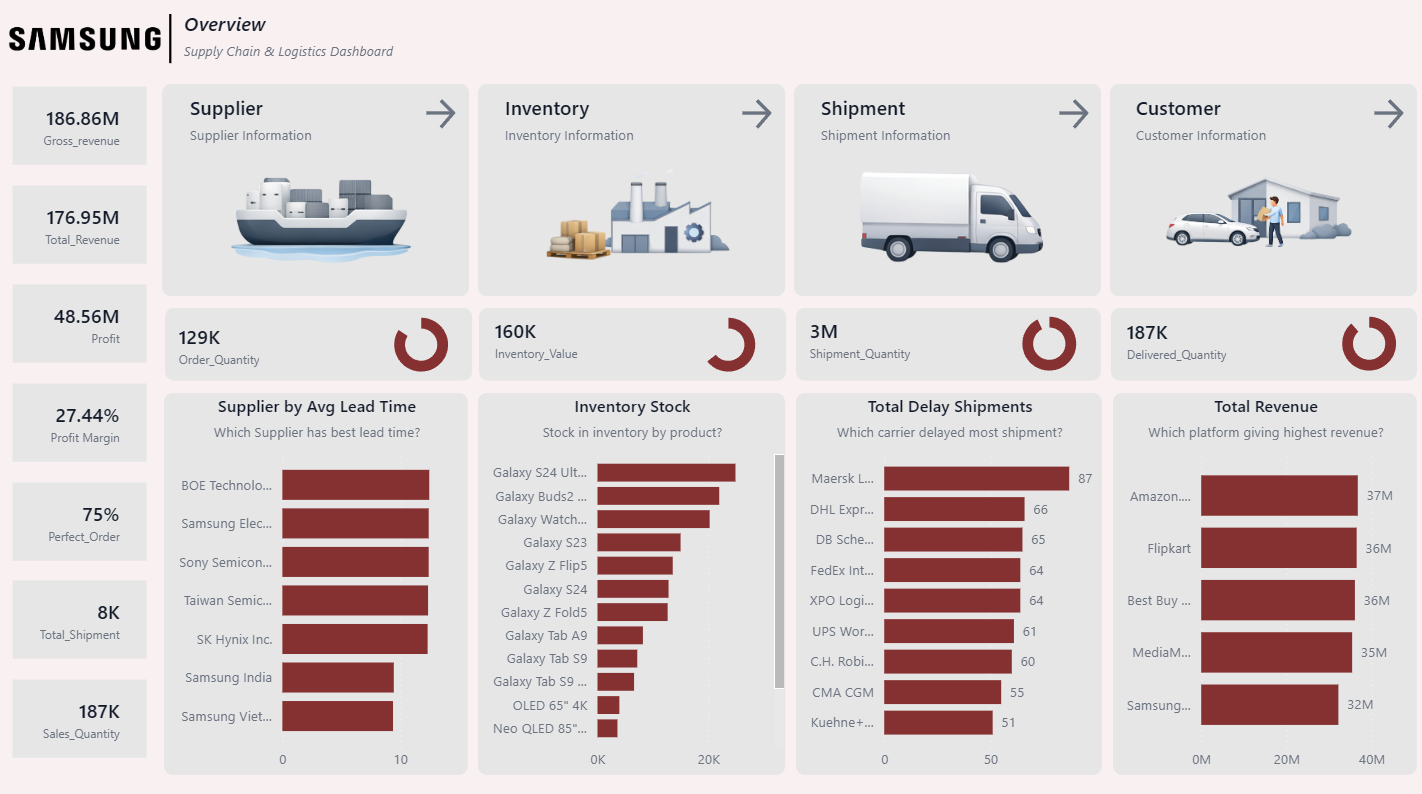

Layout of this report page (visuals, bound fields, positions):
{"tool":"powerbi","page":{"name":"Page 1","canvas":[1280,720],"ordinal":0},"visuals":[{"type":"shape","box":[148.1,81.6,275,190],"z":0},{"type":"shape","title":"Overview","box":[167.6,15.1,212.8,51.4],"z":1000,"group":"g2"},{"type":"shape","box":[430.7,81.6,275,190],"z":1000},{"type":"image","box":[0,19.5,150.7,42.6],"z":2000,"group":"g2"},{"type":"shape","box":[714.1,81.6,275,190],"z":2000},{"type":"cardVisual","fields":{"Data":["MeasuresTable.Total_Revenue"]},"box":[8.9,167.4,130,80],"z":3000},{"type":"shape","box":[135.7,18.6,39.9,44.3],"z":4000,"group":"g2"},{"type":"clusteredBarChart","title":"Supplier by Avg Lead Time","fields":{"Y":["MeasuresTable.Avg_Lead_Time"],"Category":["dim_supplier.supplier_name"]},"box":[149.9,358.1,272.2,342.3],"z":4000},{"type":"shape","box":[996.7,81.6,275,190],"z":5000},{"type":"cardVisual","fields":{"Data":["MeasuresTable.Profit"]},"box":[9.2,256,130,80],"z":6000},{"type":"clusteredBarChart","title":"Inventory Stock","fields":{"Y":["MeasuresTable.Inventory_Value"],"Category":["dim_product.product_name"]},"box":[430.9,358.1,274.9,342.3],"z":7000},{"type":"image","box":[191.2,126.9,188.6,133.7],"z":8000},{"type":"cardVisual","fields":{"Data":["MeasuresTable.Profit Margin %"]},"box":[9.2,344.5,130,80],"z":9000},{"type":"clusteredBarChart","title":"Total Delay Shipments","fields":{"Y":["MeasuresTable.Total_Delay"],"Category":["fact_shipment.carrier"]},"box":[715.6,358.1,274,342.3],"z":10000},{"type":"image","box":[473.8,126.9,188.6,133.7],"z":11000},{"type":"cardVisual","fields":{"Data":["MeasuresTable.Perfect_Order %"]},"box":[8.9,433,130,80],"z":12000},{"type":"clusteredBarChart","title":"Total Revenue","fields":{"Y":["MeasuresTable.Total_Revenue"],"Category":["dim_customer.customer_name"]},"box":[999.3,358.1,272.2,342.3],"z":13000},{"type":"image","box":[757.3,126.9,188.6,133.7],"z":14000},{"type":"shape","box":[432.3,281.9,274.7,65],"z":14000,"group":"g1"},{"type":"cardVisual","fields":{"Data":["MeasuresTable.Total_Shipment"]},"box":[8.9,521.5,130,80],"z":15000},{"type":"image","box":[1039.9,125.8,188.6,134.8],"z":16000},{"type":"donutChart","fields":{"Y":["MeasuresTable.Inventory_Value","MeasuresTable.Safety_stock"]},"box":[622.7,284.6,65,60.3],"z":16000,"group":"g1"},{"type":"cardVisual","fields":{"Data":["Sum(fact_sales.gross_revenue)"]},"box":[8.9,78.9,130.3,80],"z":17000},{"type":"cardVisual","fields":{"Data":["MeasuresTable.Inventory_Value"]},"box":[422.2,266.9,218.1,85.1],"z":17000,"group":"g1"},{"type":"actionButton","box":[378.9,90.3,42.2,35.7],"z":18000},{"type":"cardVisual","fields":{"Data":["MeasuresTable.Total_Sales_Quantity"]},"box":[9.2,610,130,80],"z":19000},{"type":"actionButton","box":[661.9,90.3,41.4,35.9],"z":20000},{"type":"shape","box":[150.7,282,274.9,64.7],"z":21000},{"type":"actionButton","box":[1227.9,90.3,41.4,35.9],"z":22000},{"type":"actionButton","box":[945.3,90.3,41.4,35.9],"z":23000},{"type":"shape","title":"Supplier","box":[172.6,90.3,194.1,57.5],"z":24000},{"type":"shape","title":"Inventory","box":[454.7,90.3,194.1,57.5],"z":25000},{"type":"shape","box":[715.9,281.8,273.1,65],"z":26000},{"type":"shape","box":[997.5,281.9,274,64.7],"z":27000},{"type":"shape","title":"Shipment","box":[737.7,90.3,194.1,57.5],"z":28000},{"type":"group","id":"g1","title":"Group 5","box":[422.2,266.9,284.6,85.1],"z":29000},{"type":"shape","title":"Customer","box":[1019.9,90.3,194.1,57.5],"z":30000},{"type":"cardVisual","fields":{"Data":["MeasuresTable.Total_Shipment_Quantity"]},"box":[704.2,266.9,219,85.1],"z":31000},{"type":"donutChart","fields":{"Y":["MeasuresTable.Total_Shipment","MeasuresTable.Total_Delay"]},"box":[909.5,283.7,65,60.3],"z":32000},{"type":"cardVisual","fields":{"Data":["MeasuresTable.Total_Delivered_Quantity"]},"box":[987.8,267.7,219,85.1],"z":33000},{"type":"donutChart","fields":{"Y":["MeasuresTable.Total_Delivered_Quantity","MeasuresTable.Defect_rate"]},"box":[1196.1,283.6,64.7,60.3],"z":34000},{"type":"cardVisual","fields":{"Data":["MeasuresTable.Order_QTY"]},"box":[139.2,272.2,206.6,85.1],"z":35000},{"type":"donutChart","fields":{"Y":["MeasuresTable.Order_Quantity","MeasuresTable.Defect_rate"]},"box":[347.6,284.6,64.7,60.3],"z":36000},{"type":"group","id":"g2","title":"Group 1","box":[0,15.1,380.4,51.4],"z":37000}]}

Visuals, with their boxes in screenshot pixels (x1, y1, x2, y2), scaled from the page's 1280x720 canvas onto the 1422x794 screenshot:
shape: bbox(165, 90, 470, 300)
"Overview" shape: bbox(186, 17, 423, 73)
shape: bbox(478, 90, 784, 300)
image: bbox(0, 22, 167, 68)
shape: bbox(793, 90, 1099, 300)
cardVisual - MeasuresTable.Total_Revenue: bbox(10, 185, 154, 273)
shape: bbox(151, 21, 195, 69)
"Supplier by Avg Lead Time" clusteredBarChart: bbox(167, 395, 469, 772)
shape: bbox(1107, 90, 1413, 300)
cardVisual - MeasuresTable.Profit: bbox(10, 282, 155, 371)
"Inventory Stock" clusteredBarChart: bbox(479, 395, 784, 772)
image: bbox(212, 140, 422, 287)
cardVisual - MeasuresTable.Profit Margin %: bbox(10, 380, 155, 468)
"Total Delay Shipments" clusteredBarChart: bbox(795, 395, 1099, 772)
image: bbox(526, 140, 736, 287)
cardVisual - MeasuresTable.Perfect_Order %: bbox(10, 478, 154, 566)
"Total Revenue" clusteredBarChart: bbox(1110, 395, 1413, 772)
image: bbox(841, 140, 1051, 287)
shape: bbox(480, 311, 785, 383)
cardVisual - MeasuresTable.Total_Shipment: bbox(10, 575, 154, 663)
image: bbox(1155, 139, 1365, 287)
donutChart - MeasuresTable.Inventory_Value x MeasuresTable.Safety_stock: bbox(692, 314, 764, 380)
cardVisual - Sum(fact_sales.gross_revenue): bbox(10, 87, 155, 175)
cardVisual - MeasuresTable.Inventory_Value: bbox(469, 294, 711, 388)
actionButton: bbox(421, 100, 468, 139)
cardVisual - MeasuresTable.Total_Sales_Quantity: bbox(10, 673, 155, 761)
actionButton: bbox(735, 100, 781, 139)
shape: bbox(167, 311, 473, 382)
actionButton: bbox(1364, 100, 1410, 139)
actionButton: bbox(1050, 100, 1096, 139)
"Supplier" shape: bbox(192, 100, 407, 163)
"Inventory" shape: bbox(505, 100, 721, 163)
shape: bbox(795, 311, 1099, 382)
shape: bbox(1108, 311, 1413, 382)
"Shipment" shape: bbox(820, 100, 1035, 163)
"Group 5" group: bbox(469, 294, 785, 388)
"Customer" shape: bbox(1133, 100, 1349, 163)
cardVisual - MeasuresTable.Total_Shipment_Quantity: bbox(782, 294, 1026, 388)
donutChart - MeasuresTable.Total_Shipment x MeasuresTable.Total_Delay: bbox(1010, 313, 1083, 379)
cardVisual - MeasuresTable.Total_Delivered_Quantity: bbox(1097, 295, 1341, 389)
donutChart - MeasuresTable.Total_Delivered_Quantity x MeasuresTable.Defect_rate: bbox(1329, 313, 1401, 379)
cardVisual - MeasuresTable.Order_QTY: bbox(155, 300, 384, 394)
donutChart - MeasuresTable.Order_Quantity x MeasuresTable.Defect_rate: bbox(386, 314, 458, 380)
"Group 1" group: bbox(0, 17, 423, 73)
